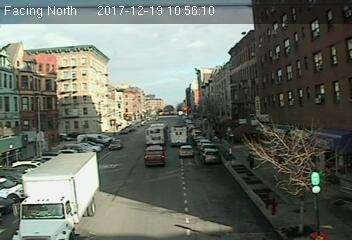bus: (145, 123, 167, 148)
car: (144, 145, 166, 166), (202, 147, 219, 163), (177, 145, 194, 157)
truck: (12, 151, 100, 240), (168, 125, 187, 149)
